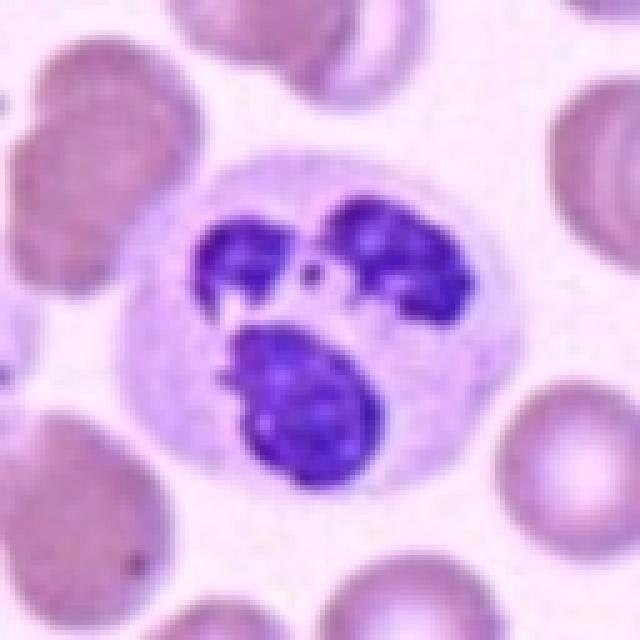neutro: (125, 185, 621, 632)
